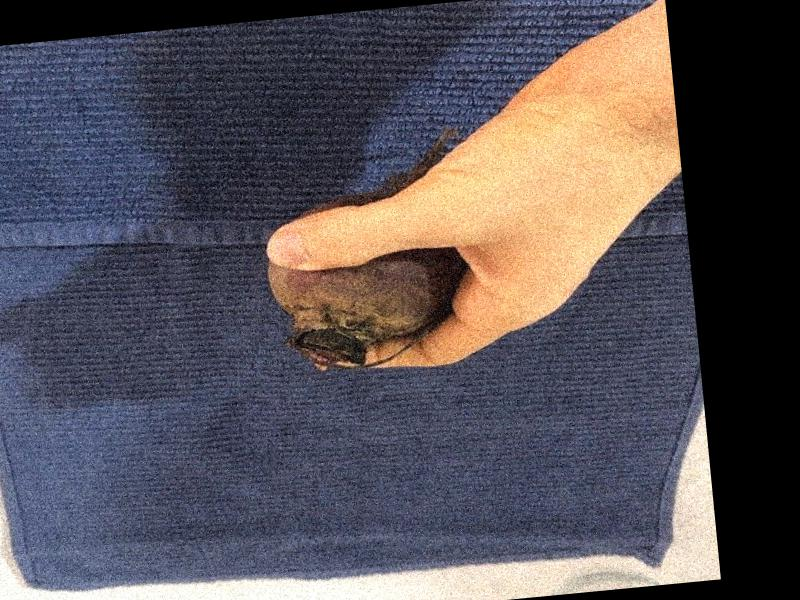Beet: (254, 125, 470, 374)
